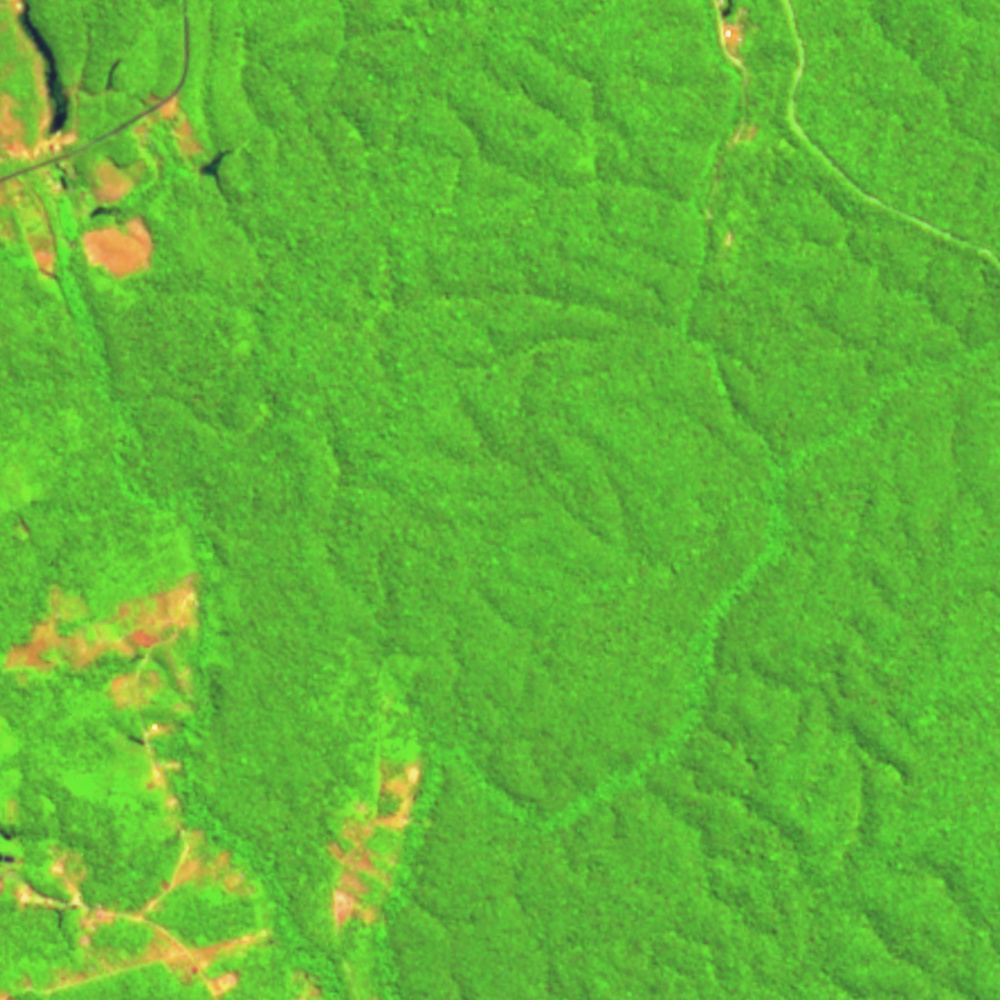legal: (1, 1, 208, 278), (1, 845, 277, 1000), (1, 570, 205, 716), (130, 718, 258, 903), (324, 745, 428, 944), (695, 1, 765, 250), (283, 957, 355, 1000)
